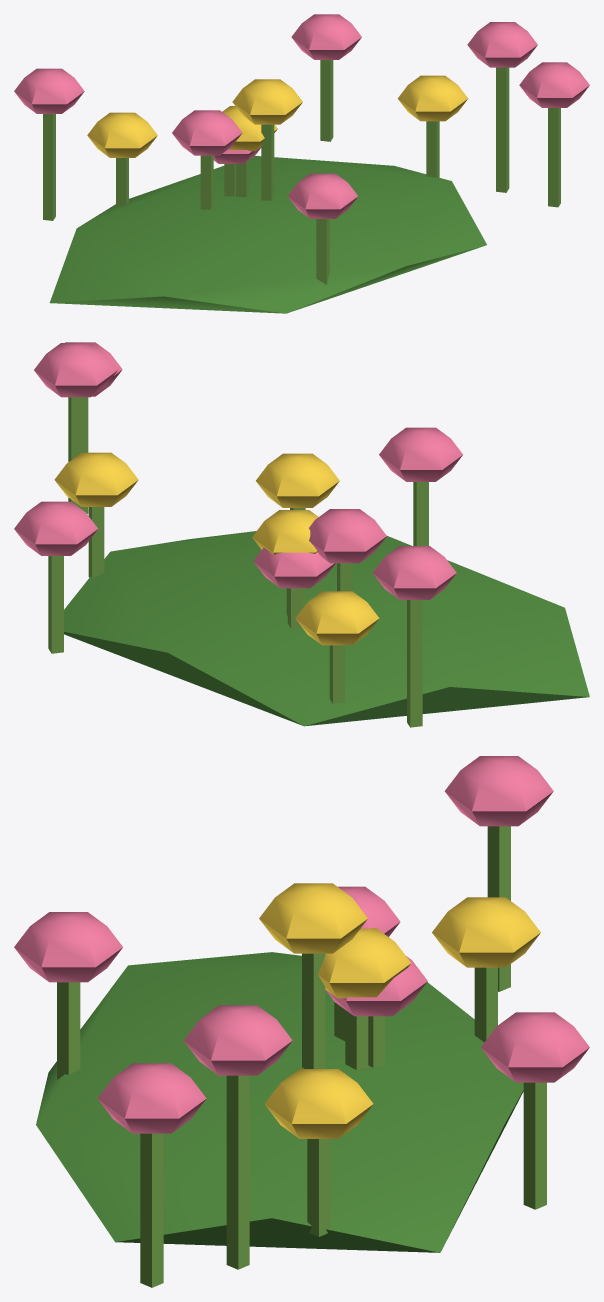
Rendered from Wildflowers.fbx.
3 views of the same model, one above another, from view 1: azimuth 30°, elevation 25°; view 2: azimuth 150°, elevation 25°; view 3: azimuth 270°, elevation 25° (orthographic). The views are drawn at different scales.
Parts seen in each view (by area): view 1: Wildflowers; view 2: Wildflowers; view 3: Wildflowers.
Part boxes in pixels (left/top/right/bottom): Wildflowers: left=14, top=14, right=589, bottom=313; Wildflowers: left=14, top=342, right=589, bottom=727; Wildflowers: left=14, top=756, right=589, bottom=1287.
Bounding box in the file's own units: 1.21 × 0.4451 × 0.7909.
